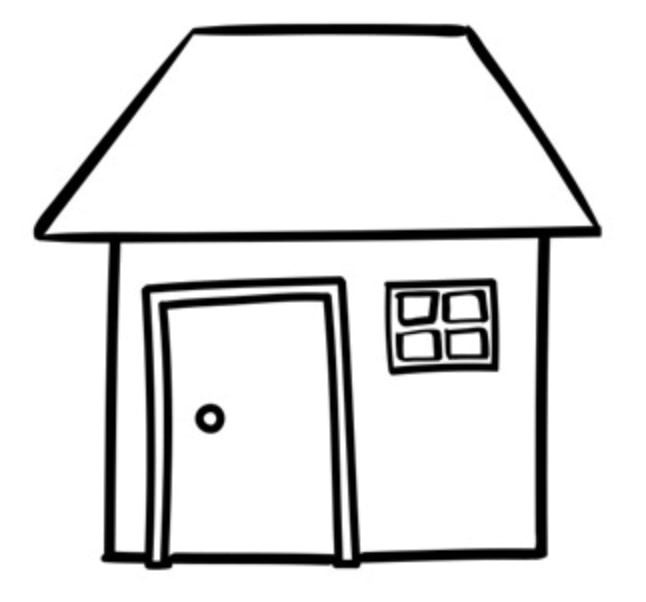House: (33, 13, 613, 571)
